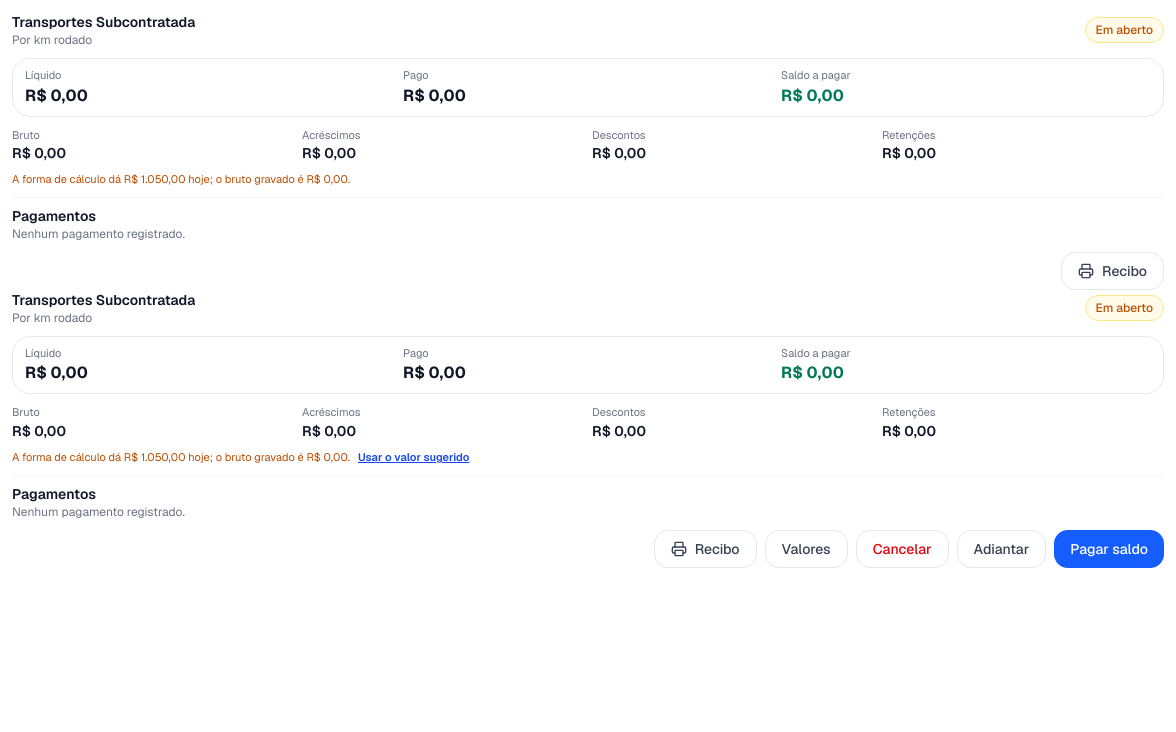
Test: aba Frete: valor sugerido, documentos da subcontratada e aviso ao quitar › quem só lê vê a diferença, sem o botão; a recusa da rota aparece e o valor continua o gravado
This screenshot has width=1176, height=732.
Click the button "Usar o valor sugerido": x=414, y=458 left=358, top=451, right=469, bottom=465
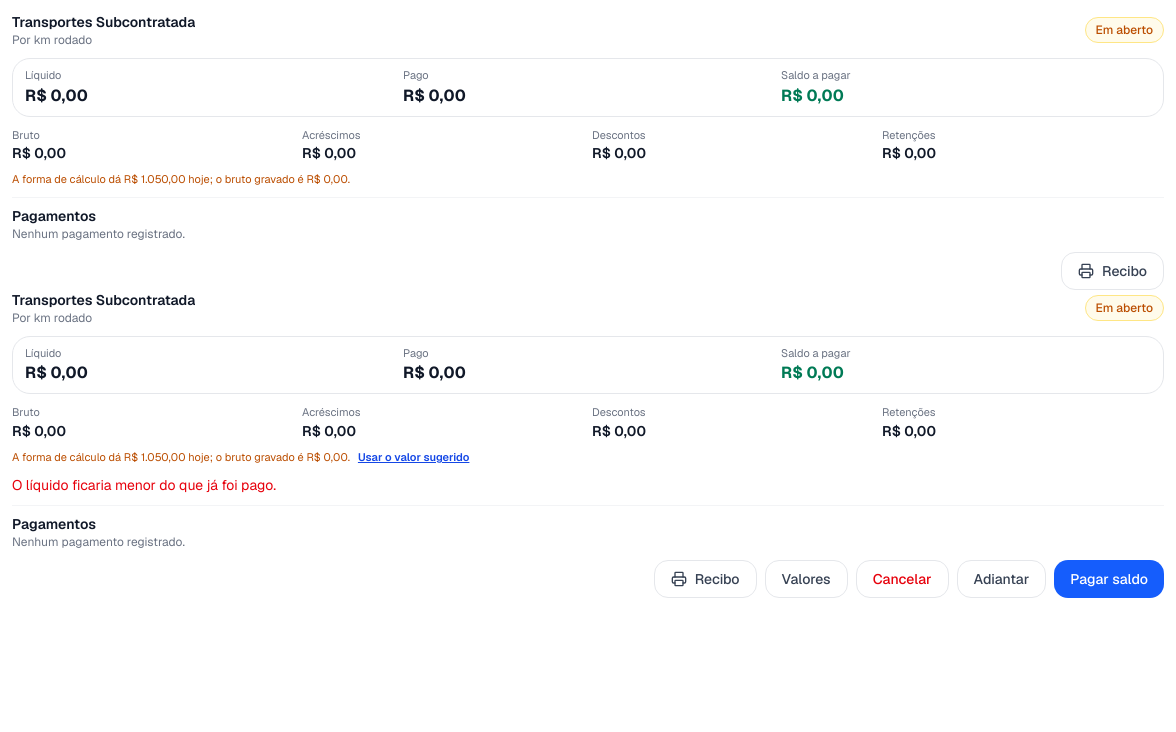
Expected: the element that starts with "A forma de cálculo dá" is shown, left=12, top=450, right=469, bottom=465
Expected: the message "O líquido ficaria menor do que já foi pago." is shown, left=12, top=476, right=276, bottom=494
